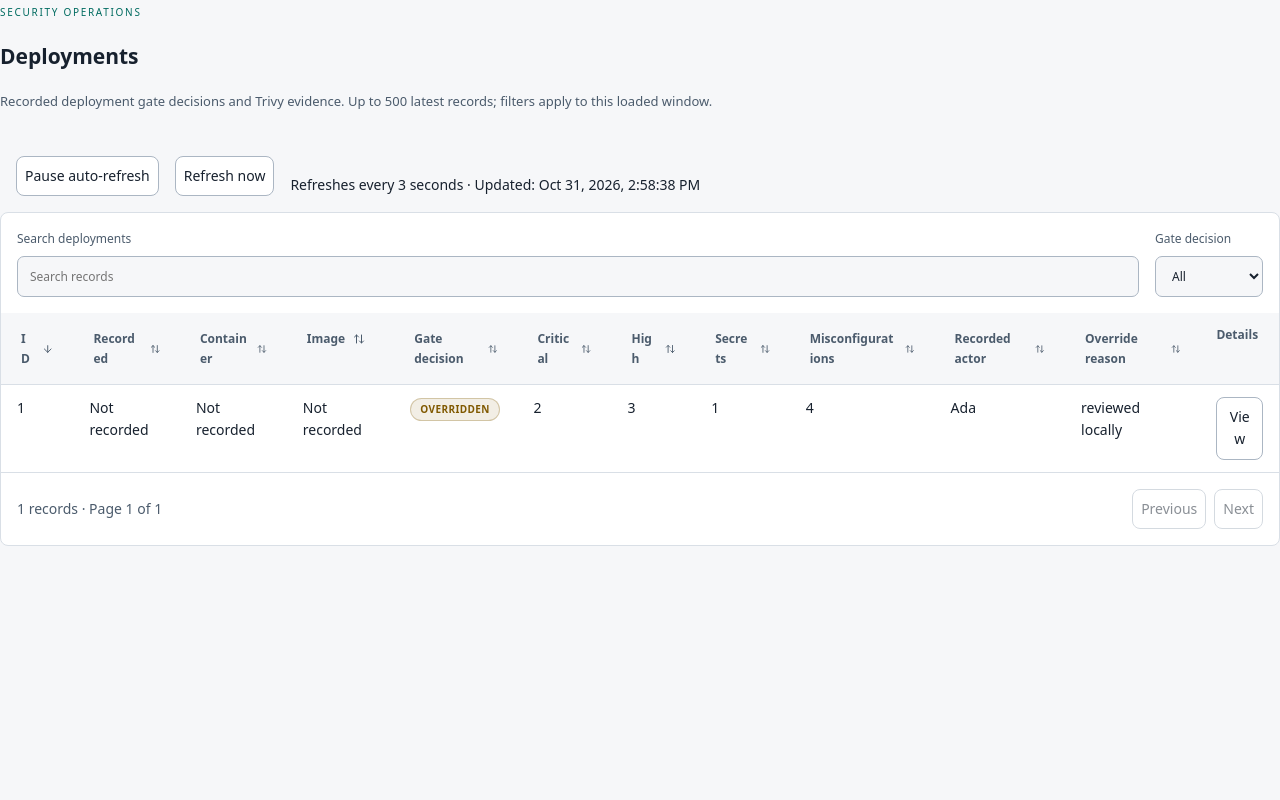
it: renders recorded gate, scanner summary and override evidence without zero-filling absent scans
Click the button with aria-label "View record 1": (1240, 428) [1216, 397, 1263, 460]
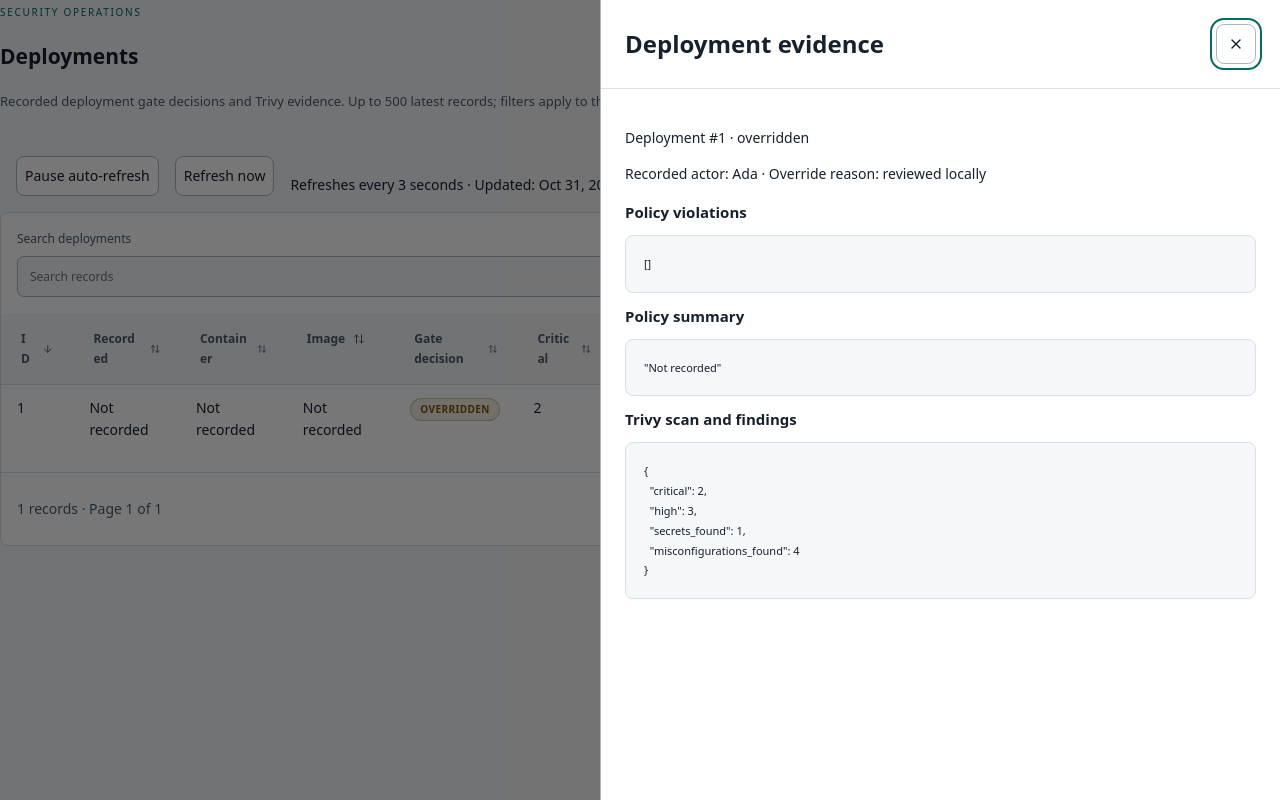
Now the dialog shows "\"critical\": 2", box [644, 463, 800, 577]
